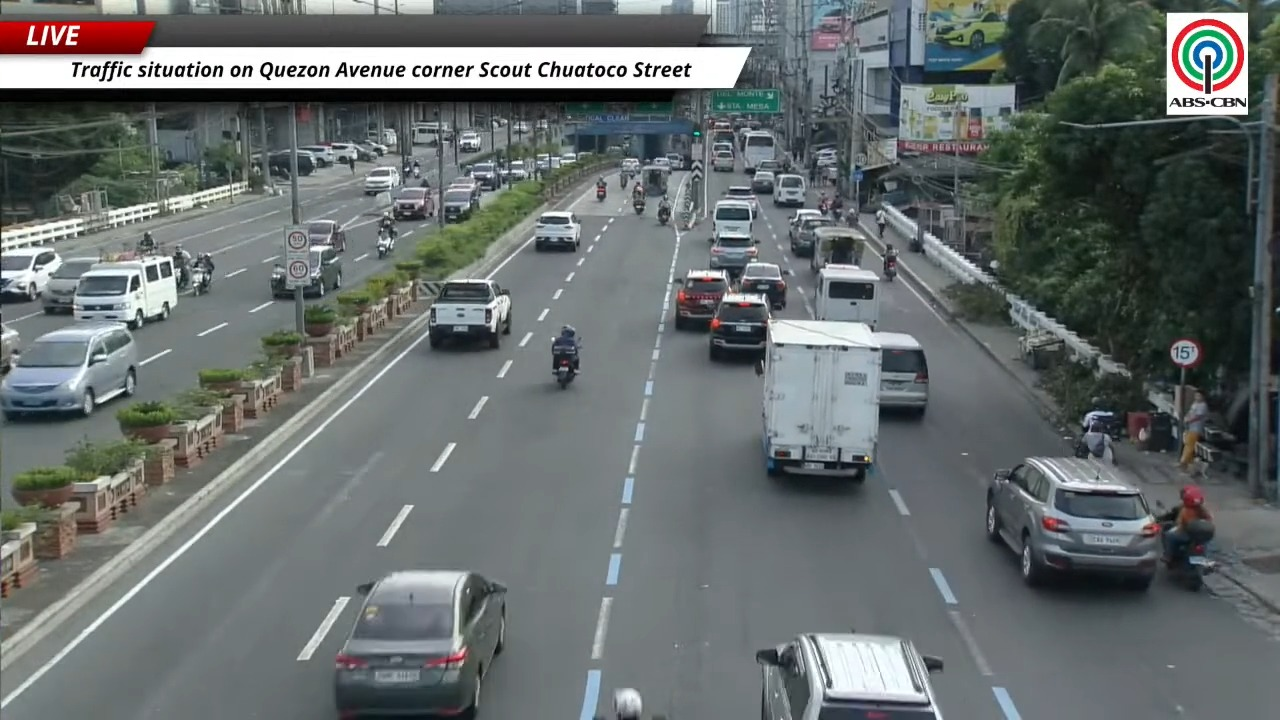bus: (742, 131, 777, 174), (412, 122, 452, 145)
car: (333, 570, 506, 717), (985, 457, 1161, 590), (756, 632, 943, 719), (0, 321, 138, 419), (709, 292, 771, 361), (41, 256, 100, 313), (674, 269, 729, 329), (0, 246, 61, 300), (932, 11, 1006, 50), (738, 261, 786, 308), (709, 235, 758, 276), (303, 245, 342, 296), (790, 211, 834, 256), (534, 211, 580, 251), (440, 186, 476, 222), (307, 219, 345, 251), (393, 188, 430, 219), (446, 176, 482, 206), (788, 209, 822, 240), (363, 167, 402, 194), (724, 185, 759, 215), (467, 163, 502, 190), (0, 324, 19, 372), (299, 145, 334, 167), (329, 142, 358, 164), (751, 168, 774, 194), (357, 140, 388, 157), (457, 131, 482, 152), (504, 161, 528, 182), (712, 149, 734, 170), (816, 149, 837, 167), (756, 160, 782, 174), (620, 158, 642, 173), (650, 156, 672, 169), (535, 153, 550, 171), (713, 142, 733, 154), (559, 153, 577, 166), (513, 121, 531, 134)
motorcycle: (1162, 520, 1216, 591), (1065, 433, 1117, 466), (553, 348, 576, 388), (190, 266, 211, 295), (556, 356, 575, 388), (376, 231, 393, 258), (176, 266, 191, 290), (135, 240, 158, 255), (883, 260, 896, 281), (657, 206, 670, 225), (830, 206, 842, 223), (633, 198, 645, 214), (596, 185, 606, 200), (620, 173, 627, 189), (412, 168, 421, 179)
truck: (756, 320, 880, 482), (428, 279, 511, 348)
